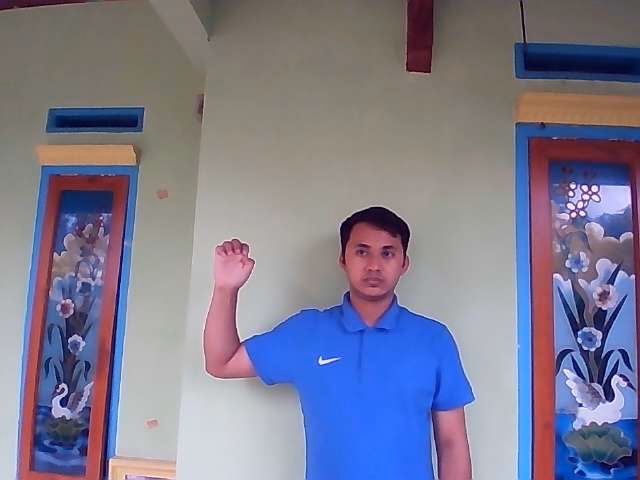E: (211, 237, 256, 292)
